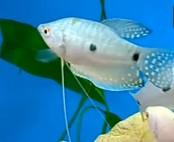Gourami: (17, 16, 174, 95)
